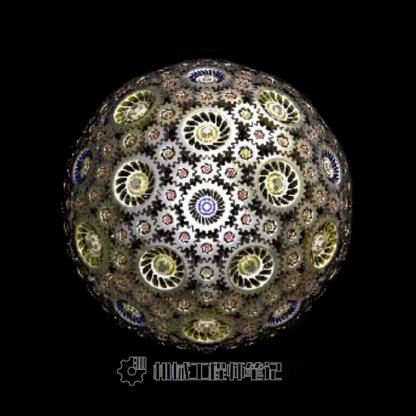FOD: (130, 214, 156, 242), (155, 205, 178, 234)
